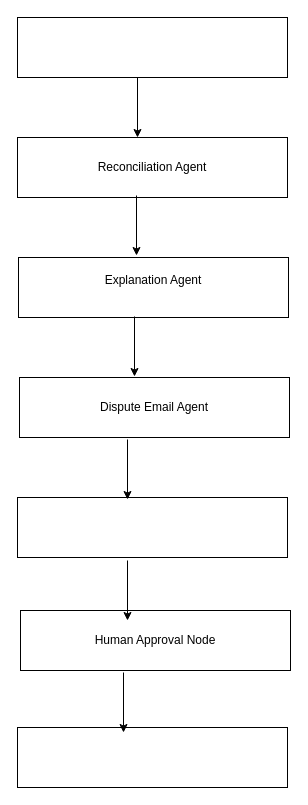
The diagram is 308 pixels wide and 805 high, and some of its shapes have lost their labels. The centre of each missing label's shape, as x and y in pixels:
Guardrail Validation: pixel 152 527
Intake Agent: pixel 152 47
